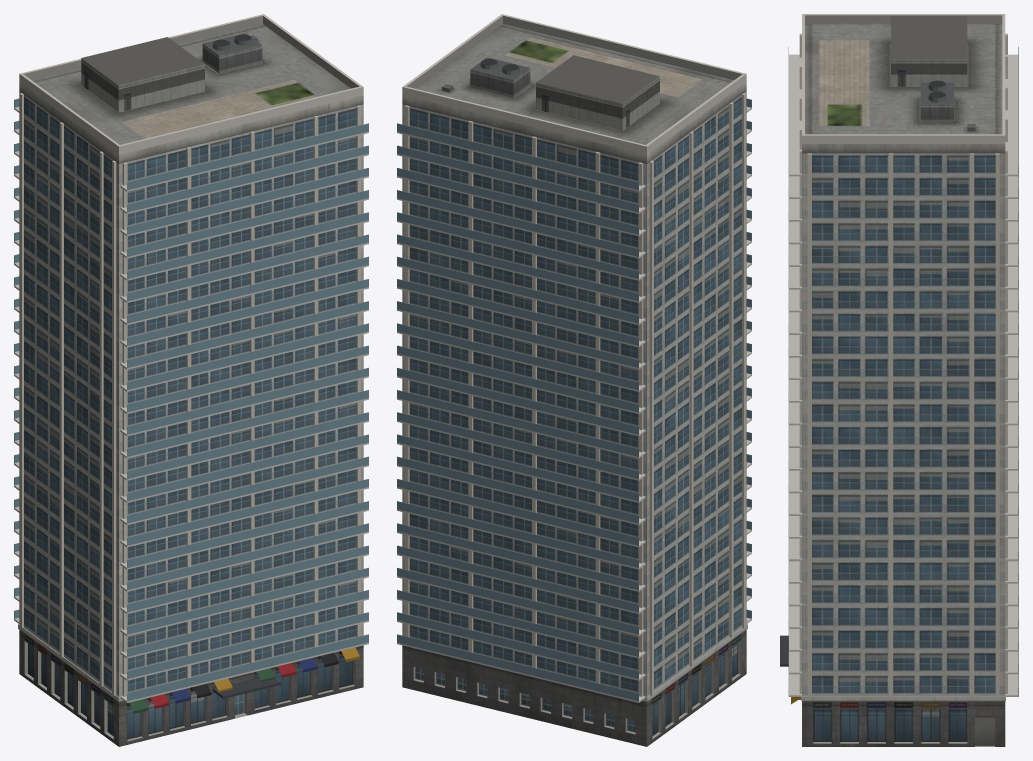
File: seattle_condotower_a.glb
The picture shows the model from 3 angles, left to right: view 1: azimuth 30°, elevation 25°; view 2: azimuth 150°, elevation 25°; view 3: azimuth 270°, elevation 25°; orthographic projection.
Visible parts, largest first — view 1: seattle_condotower_a; view 2: seattle_condotower_a; view 3: seattle_condotower_a.
Boxes of the visible parts, box(x1,y1,x2,y2) form: seattle_condotower_a: box(14, 14, 368, 746); seattle_condotower_a: box(397, 14, 751, 746); seattle_condotower_a: box(780, 14, 1018, 746).
Bounding box in the file's own units: 34.6 × 82.2 × 28.2.
Materials: 1 (1 with a texture image).
